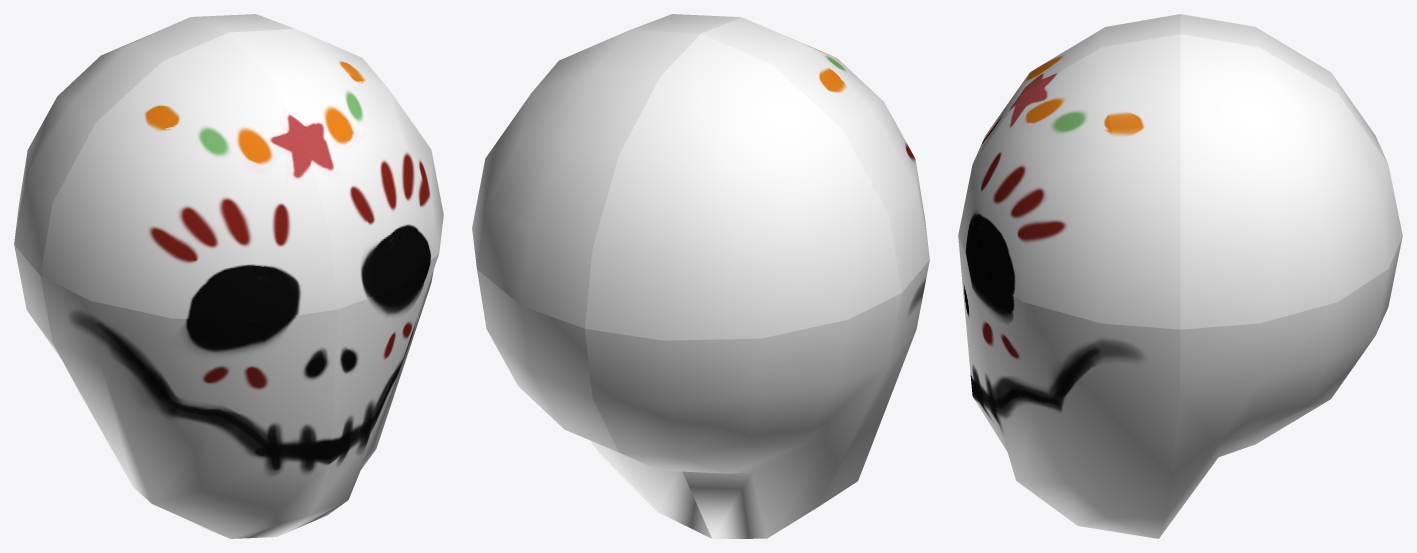
The model's file is skull (1).fbx.
3 renders of one model, left to right at view 1: azimuth 30°, elevation 25°; view 2: azimuth 150°, elevation 25°; view 3: azimuth 270°, elevation 25°, orthographic. The views are drawn at different scales.
Parts seen in each view (by area): view 1: Roundcube.001; view 2: Roundcube.001; view 3: Roundcube.001.
Part boxes in pixels (bbox=[...]): Roundcube.001: bbox=[14, 14, 443, 538]; Roundcube.001: bbox=[472, 14, 929, 538]; Roundcube.001: bbox=[958, 14, 1402, 538].
Size of the model in its own units: 27.17 by 33.19 by 27.17.
1 material, 1 textured.
